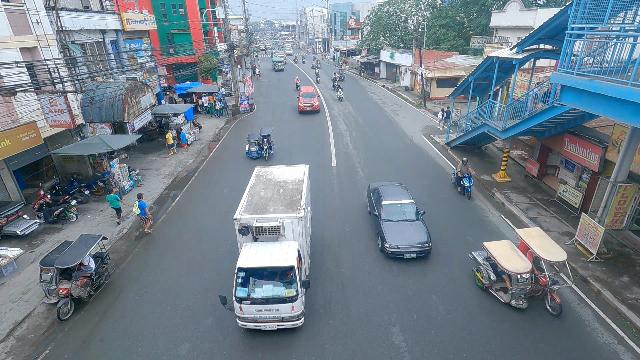car: (365, 181, 433, 261), (296, 86, 320, 114), (285, 48, 293, 57)
jeepney: (271, 57, 286, 72)
motorcycle: (452, 167, 473, 199), (335, 87, 344, 102), (294, 79, 301, 92), (331, 77, 338, 90), (339, 70, 346, 82), (315, 72, 321, 84), (315, 66, 320, 76), (293, 56, 298, 64), (335, 56, 340, 64), (301, 57, 306, 64), (339, 61, 344, 68), (313, 56, 317, 63)
truck: (231, 161, 313, 332)
